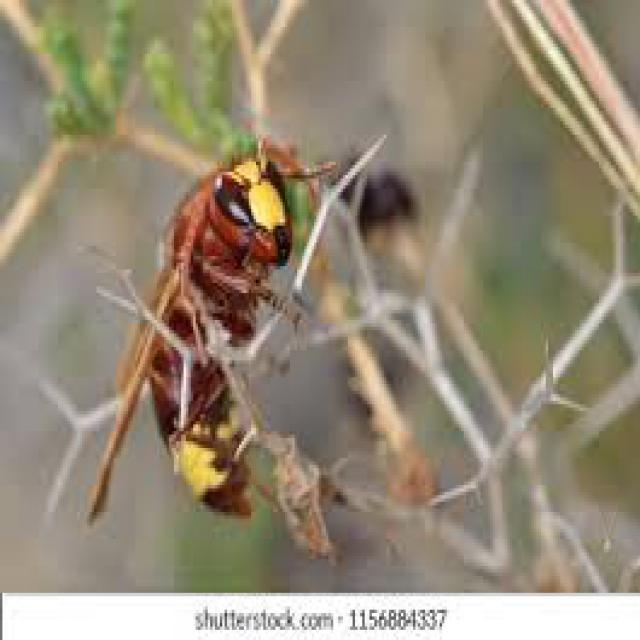Vespa Orientalis: (60, 116, 331, 558)
